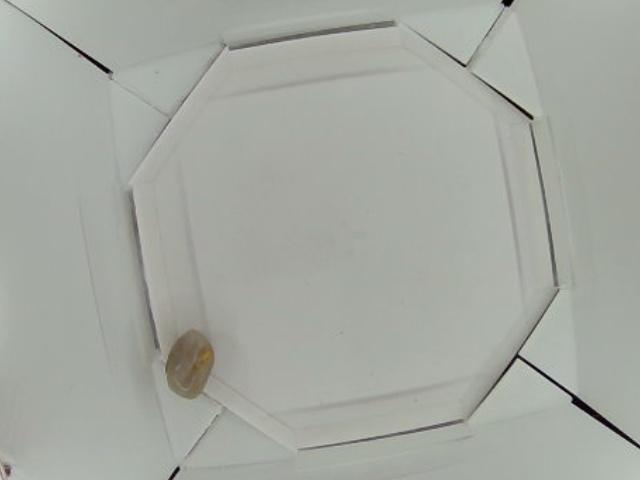Pebble: (165, 329, 214, 398)
